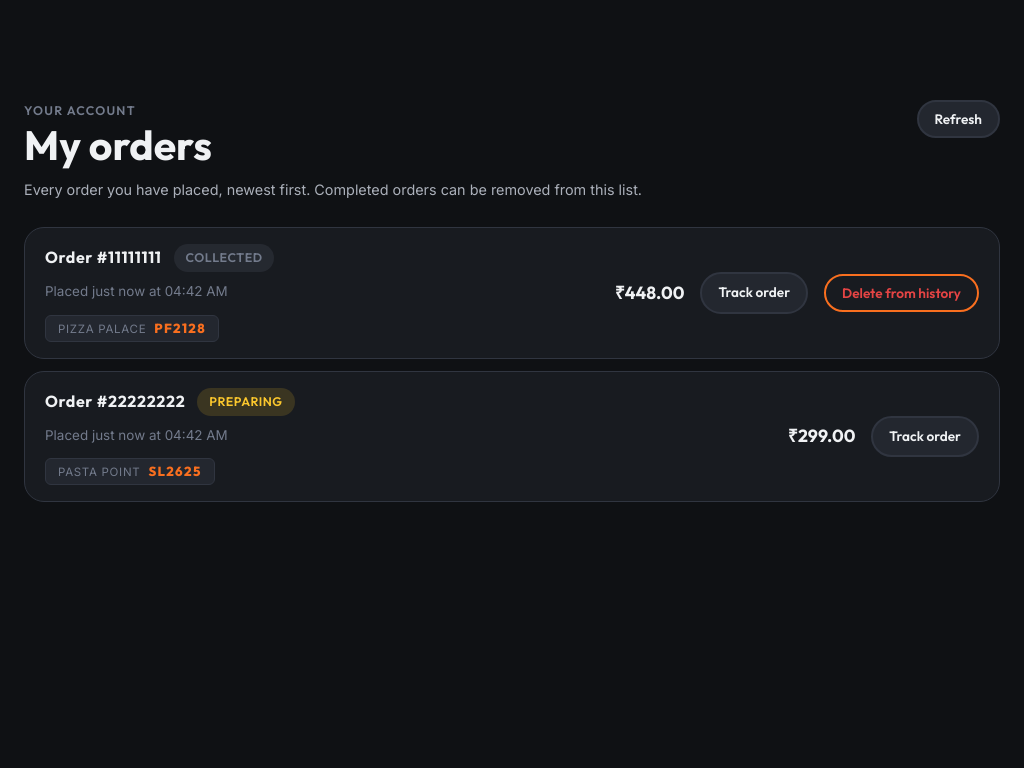
keeps the row and shows the server message when the order is not completed
Expected: the text "Pizza Palace" is shown, 58,320 -> 146,338
Click the button "Delete from history" at (902, 293), box 824,274 -> 979,312
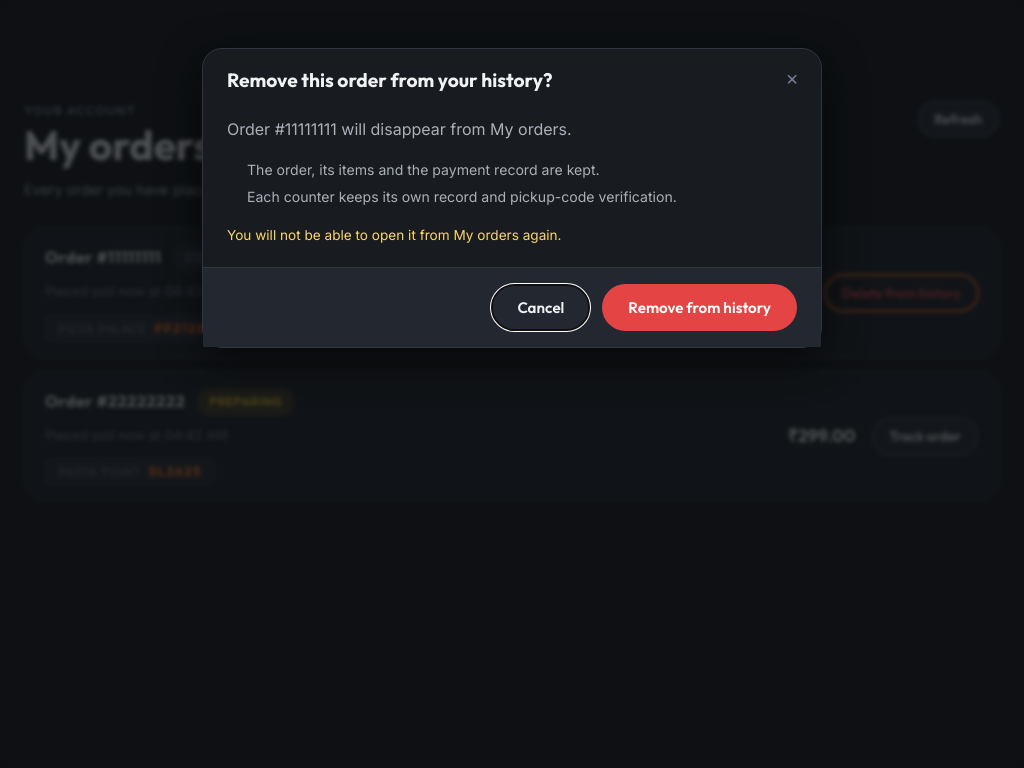
Click the button "Remove from history" at (700, 308), box 602,284 -> 797,331
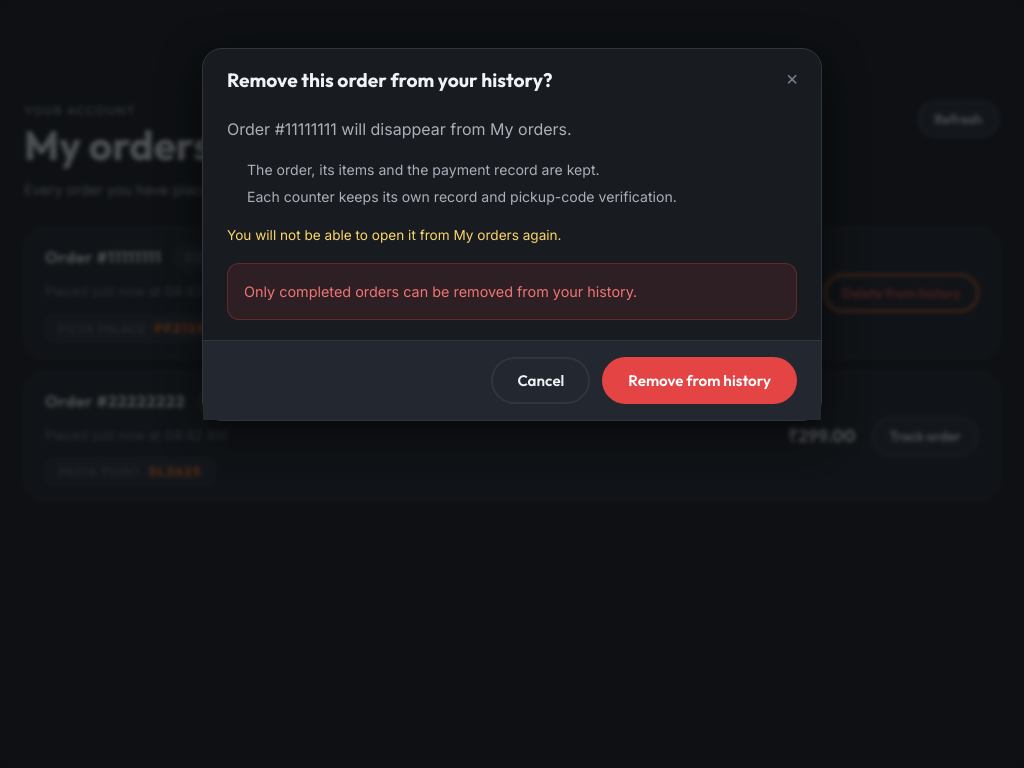
Expected: the text "PF2128" is shown, 154,318 -> 206,339
Expected: the dialog is shown, 202,48 -> 822,421
Expected: the text "Only completed orders can be removed from your history." is shown, 227,263 -> 797,320
